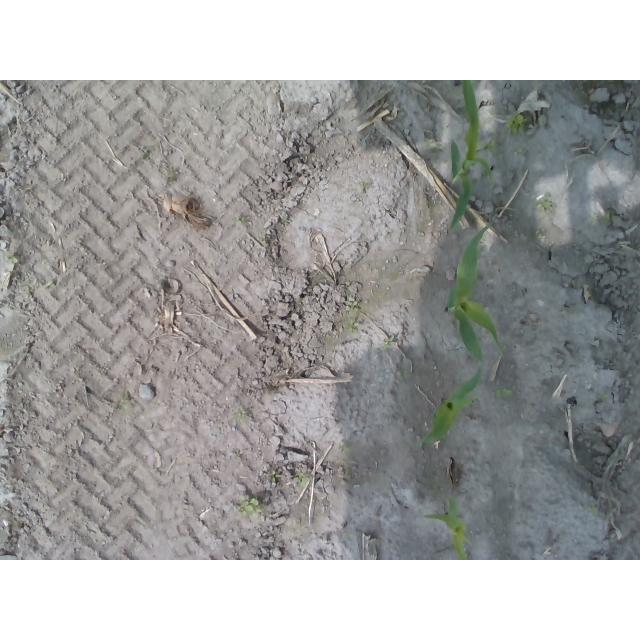Maize: (445, 225, 508, 367), (449, 80, 495, 234), (415, 365, 478, 450), (425, 492, 469, 560)
Weeds: (237, 494, 263, 519), (504, 112, 528, 135), (494, 386, 515, 400), (537, 198, 555, 214), (345, 319, 362, 334), (483, 139, 498, 156), (231, 214, 251, 226), (513, 144, 528, 156), (344, 301, 360, 312), (1, 254, 18, 264), (384, 335, 396, 349), (337, 443, 352, 454), (271, 469, 282, 484), (423, 138, 437, 149), (295, 474, 305, 486), (234, 407, 246, 417)
